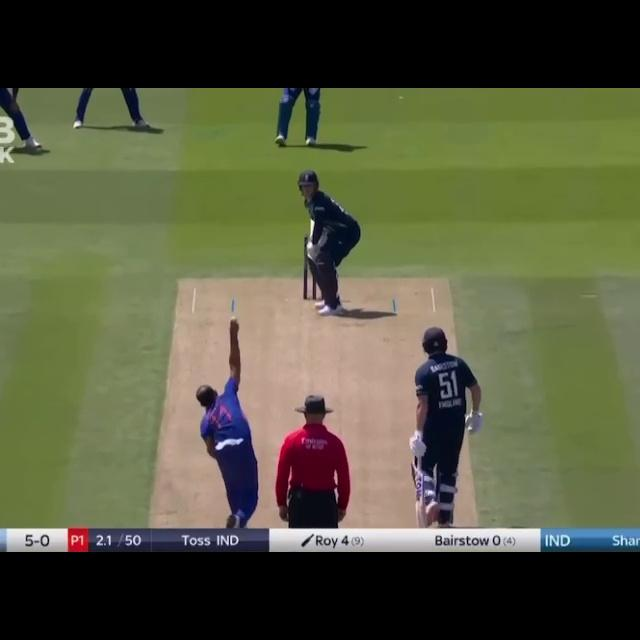umpire: (265, 394, 363, 539)
